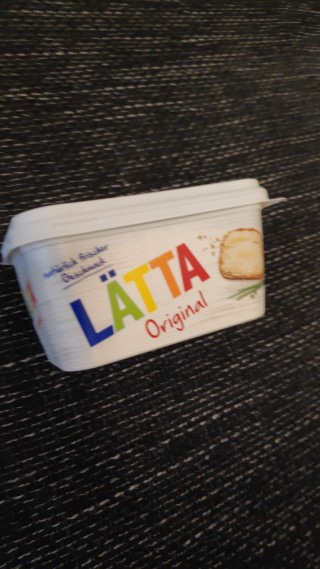laetta: (3, 177, 287, 373)
